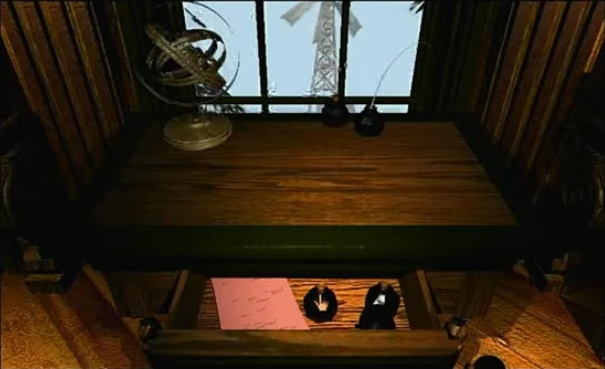Pointer: (310, 292, 332, 313)
